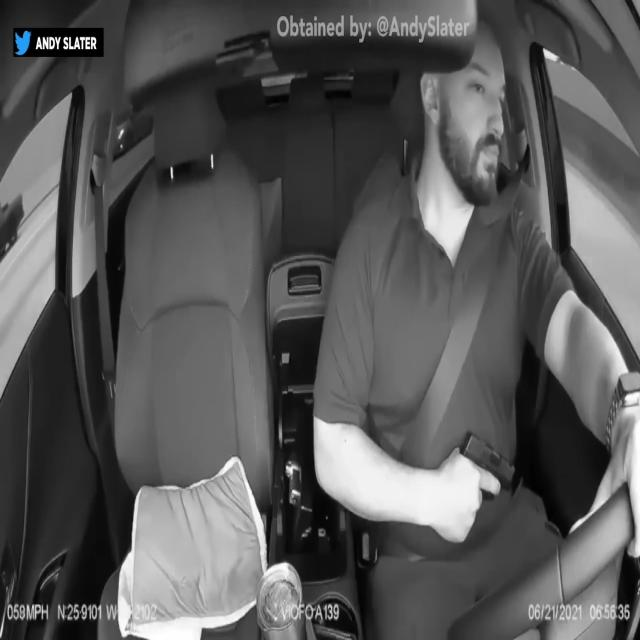senjata_api: (458, 427, 518, 500)
